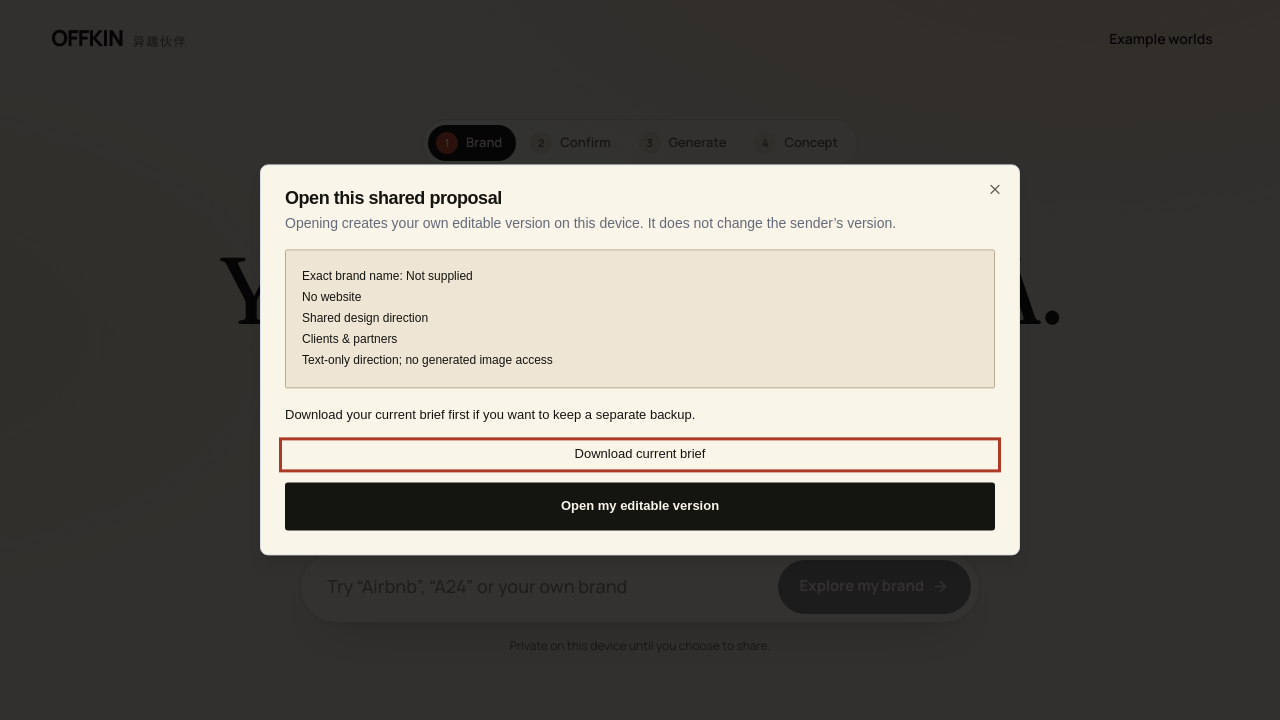
Complete proposal journey › focuses the main content after completing a shared import
Click the button "Open my editable version".
click(640, 506)  # box x1=285 y1=482 x2=995 y2=531
(page scrolled)
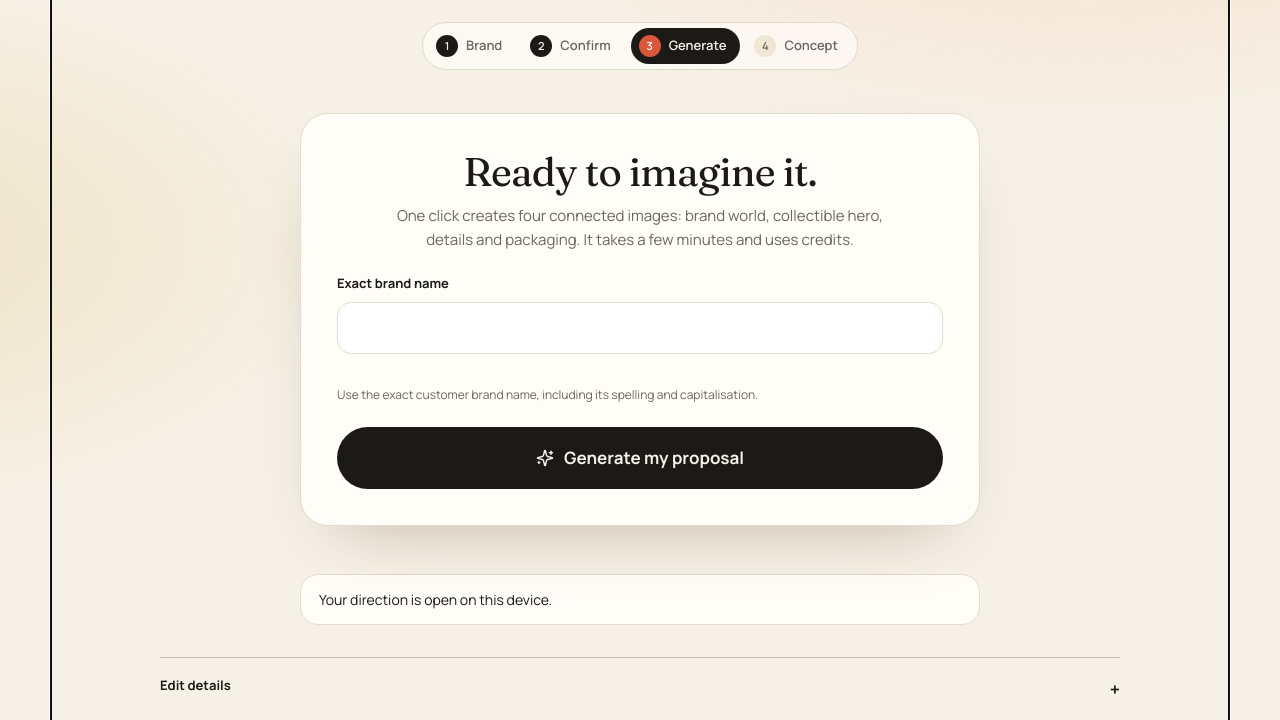
Now the dialog is gone
